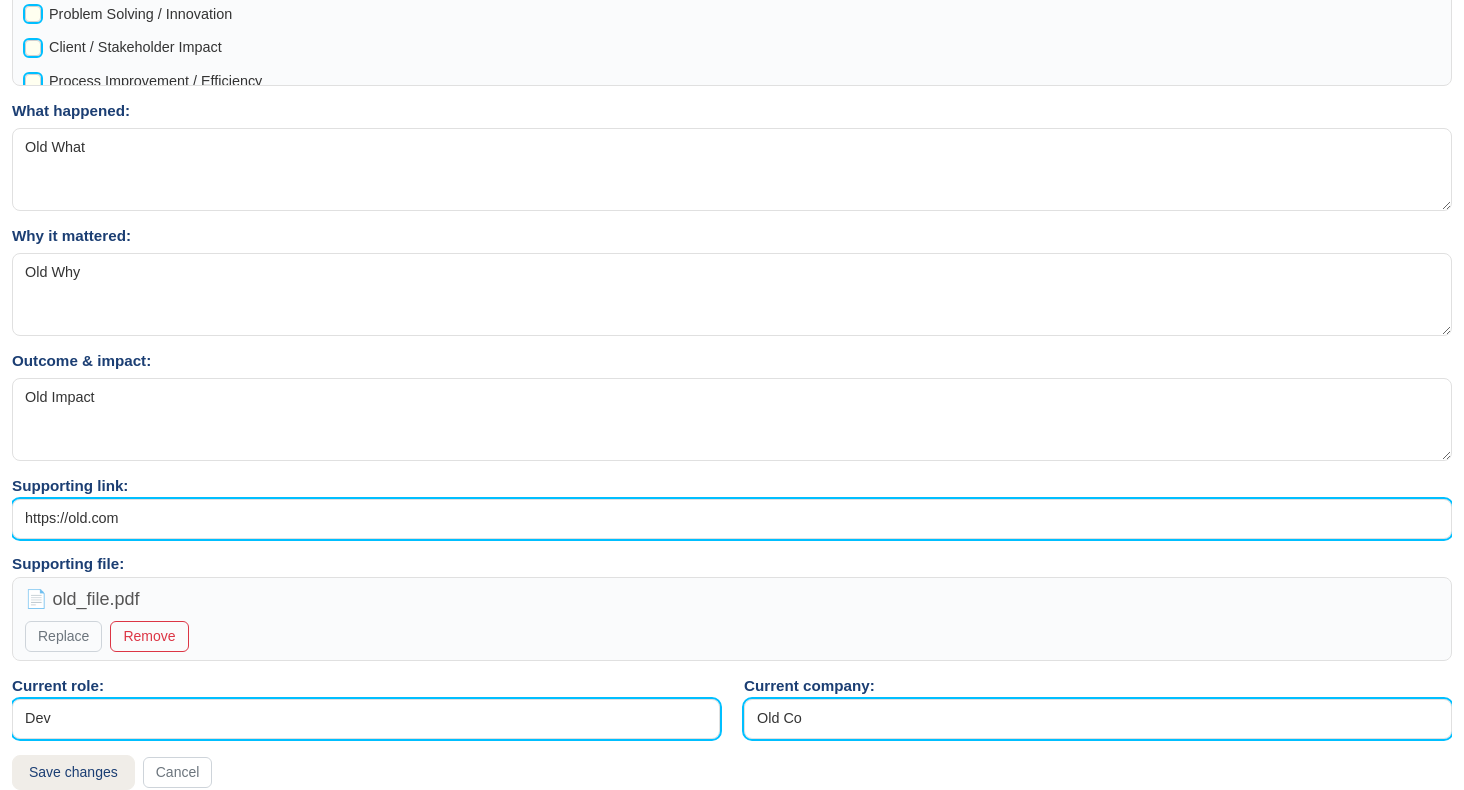
UpdateContribution Component › allows removing the current supporting file
(page scrolled)
Check: the text "old_file.pdf" is shown, box 52,589 -> 140,609
Step 1. Click the button "Remove" → point(149, 636), box 110,621 -> 188,652
(page scrolled)
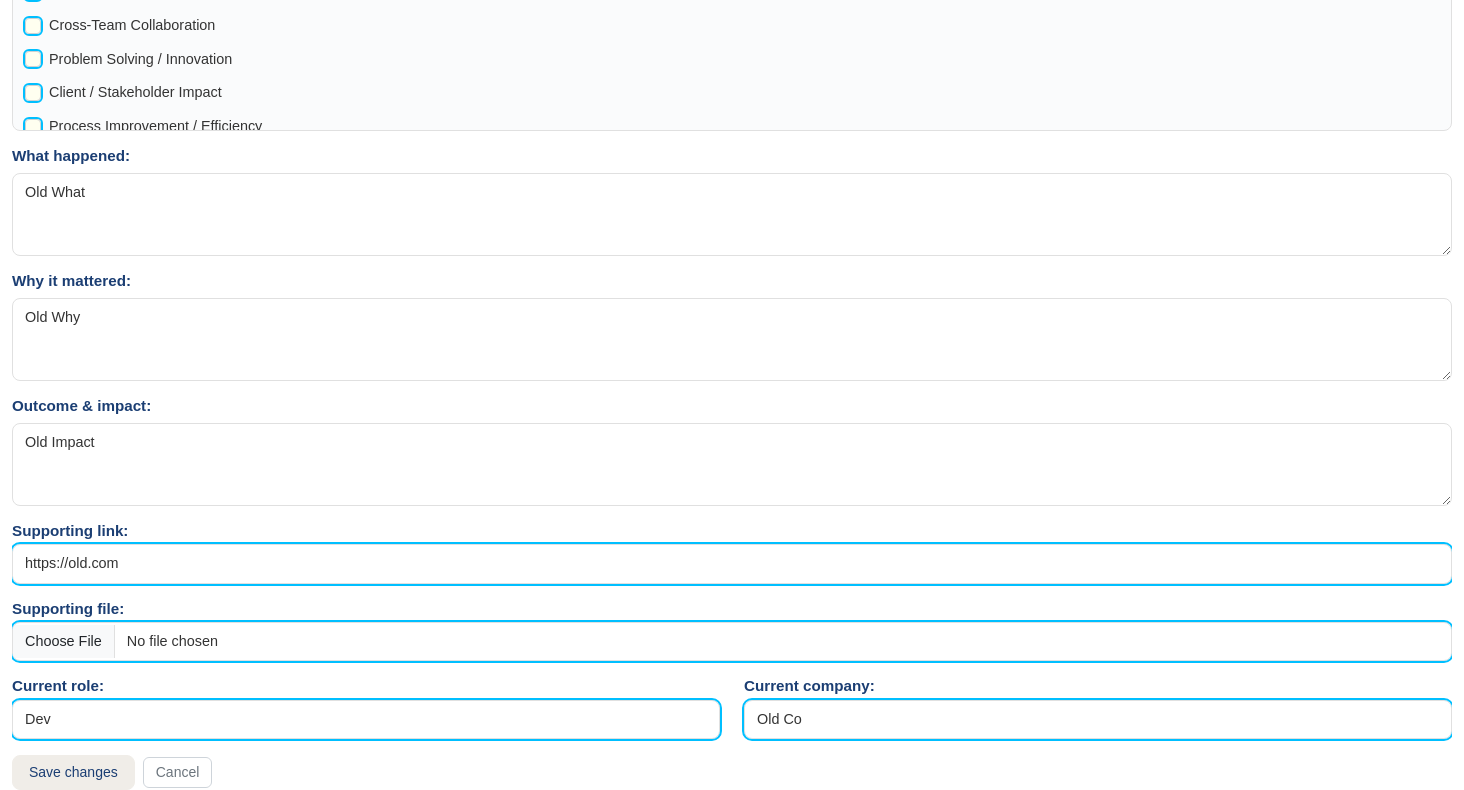
Check: the text "old_file.pdf" is gone
